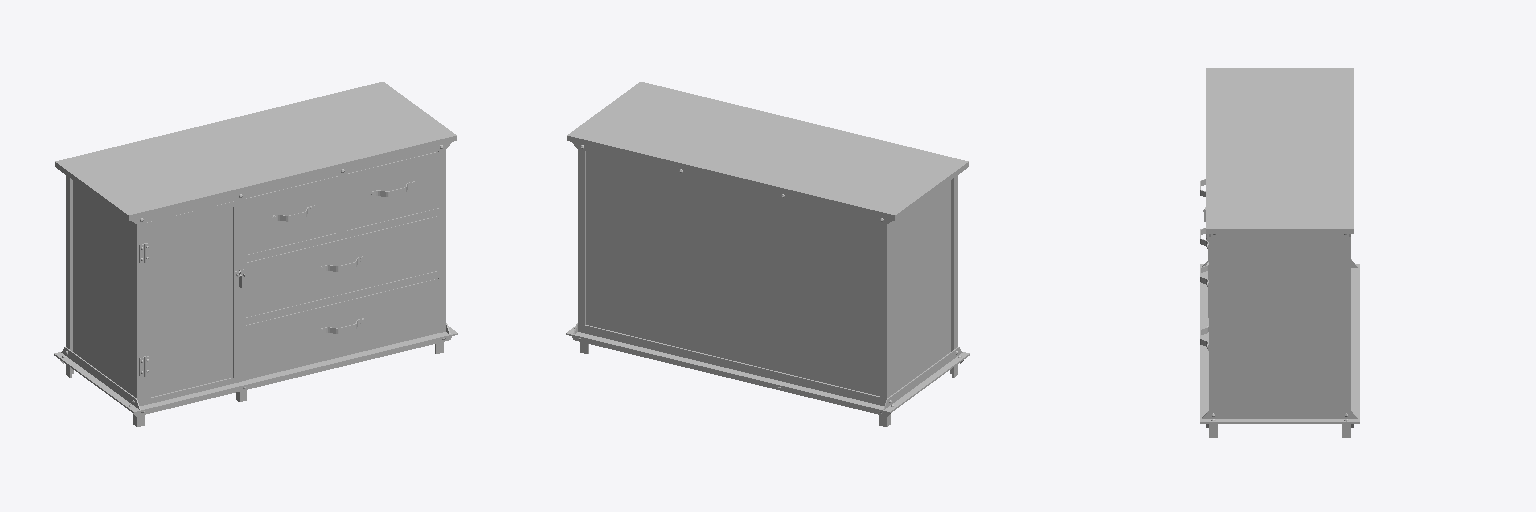
The model's file is WoodenTable_03.obj.
The picture shows the model from 3 angles: view 1: azimuth 30°, elevation 25°; view 2: azimuth 150°, elevation 25°; view 3: azimuth 270°, elevation 25°; orthographic projection.
Visible parts, largest first — view 1: Cube_low_Cube.002, Cube.006_low_Cube.006, Cube.005_low_Cube.005, Cube.004_low_Cube.003, Cube.003_low_Cube.047; view 2: Cube_low_Cube.002, Cube.003_low_Cube.047; view 3: Cube_low_Cube.002.
Boxes of the visible parts, x1=… form: Cube_low_Cube.002: x1=54, y1=82, x2=457, y2=413; Cube.006_low_Cube.006: x1=246, y1=152, x2=438, y2=379; Cube.005_low_Cube.005: x1=150, y1=208, x2=232, y2=397; Cube.004_low_Cube.003: x1=144, y1=200, x2=238, y2=404; Cube.003_low_Cube.047: x1=60, y1=336, x2=451, y2=416; Cube_low_Cube.002: x1=566, y1=82, x2=969, y2=413; Cube.003_low_Cube.047: x1=572, y1=336, x2=963, y2=416; Cube_low_Cube.002: x1=1200, y1=68, x2=1359, y2=423.
Size of the model in its own units: 1.33 by 0.8301 by 0.5617.